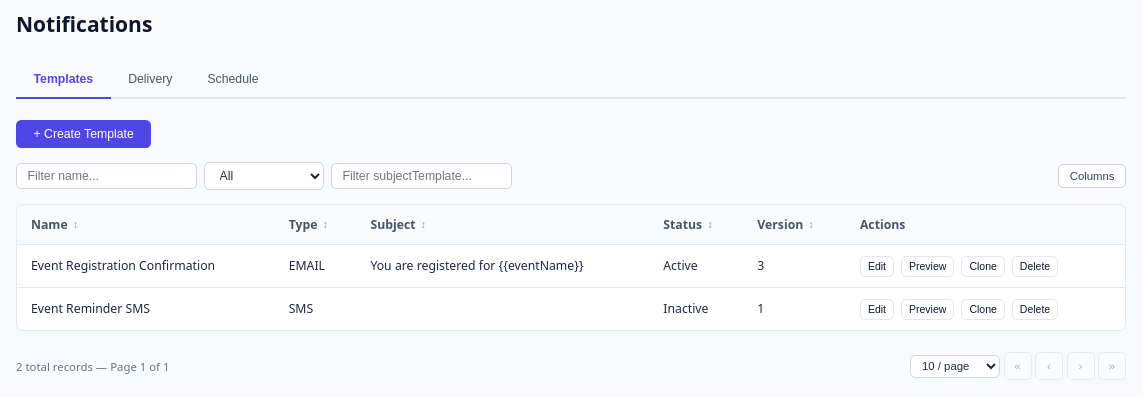
Scenario: NotificationsContent › Retry button visibility logic › does not show Retry button for DELIVERED status
The width and height of the screenshot is (1143, 397).
Click the tab "Delivery": (150, 80) [111, 62, 190, 98]
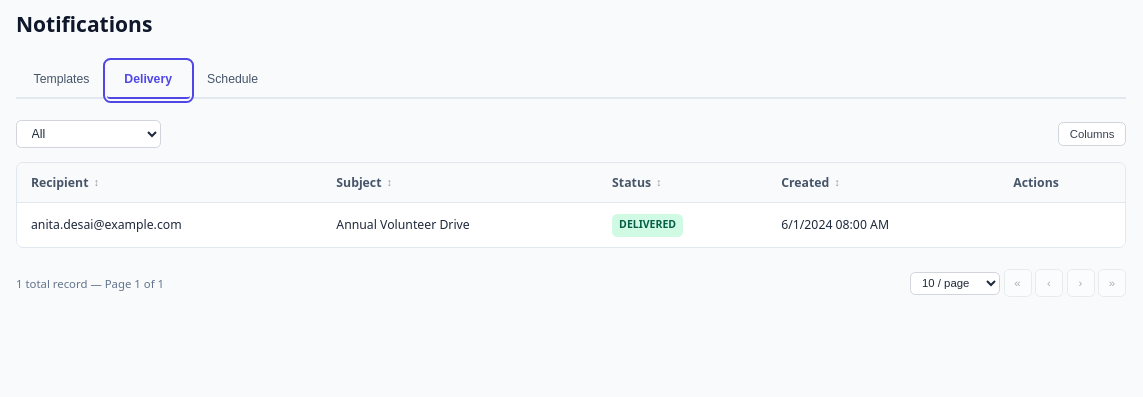
Now the text "anita.desai@example.com" is shown, box [17, 203, 322, 247]
